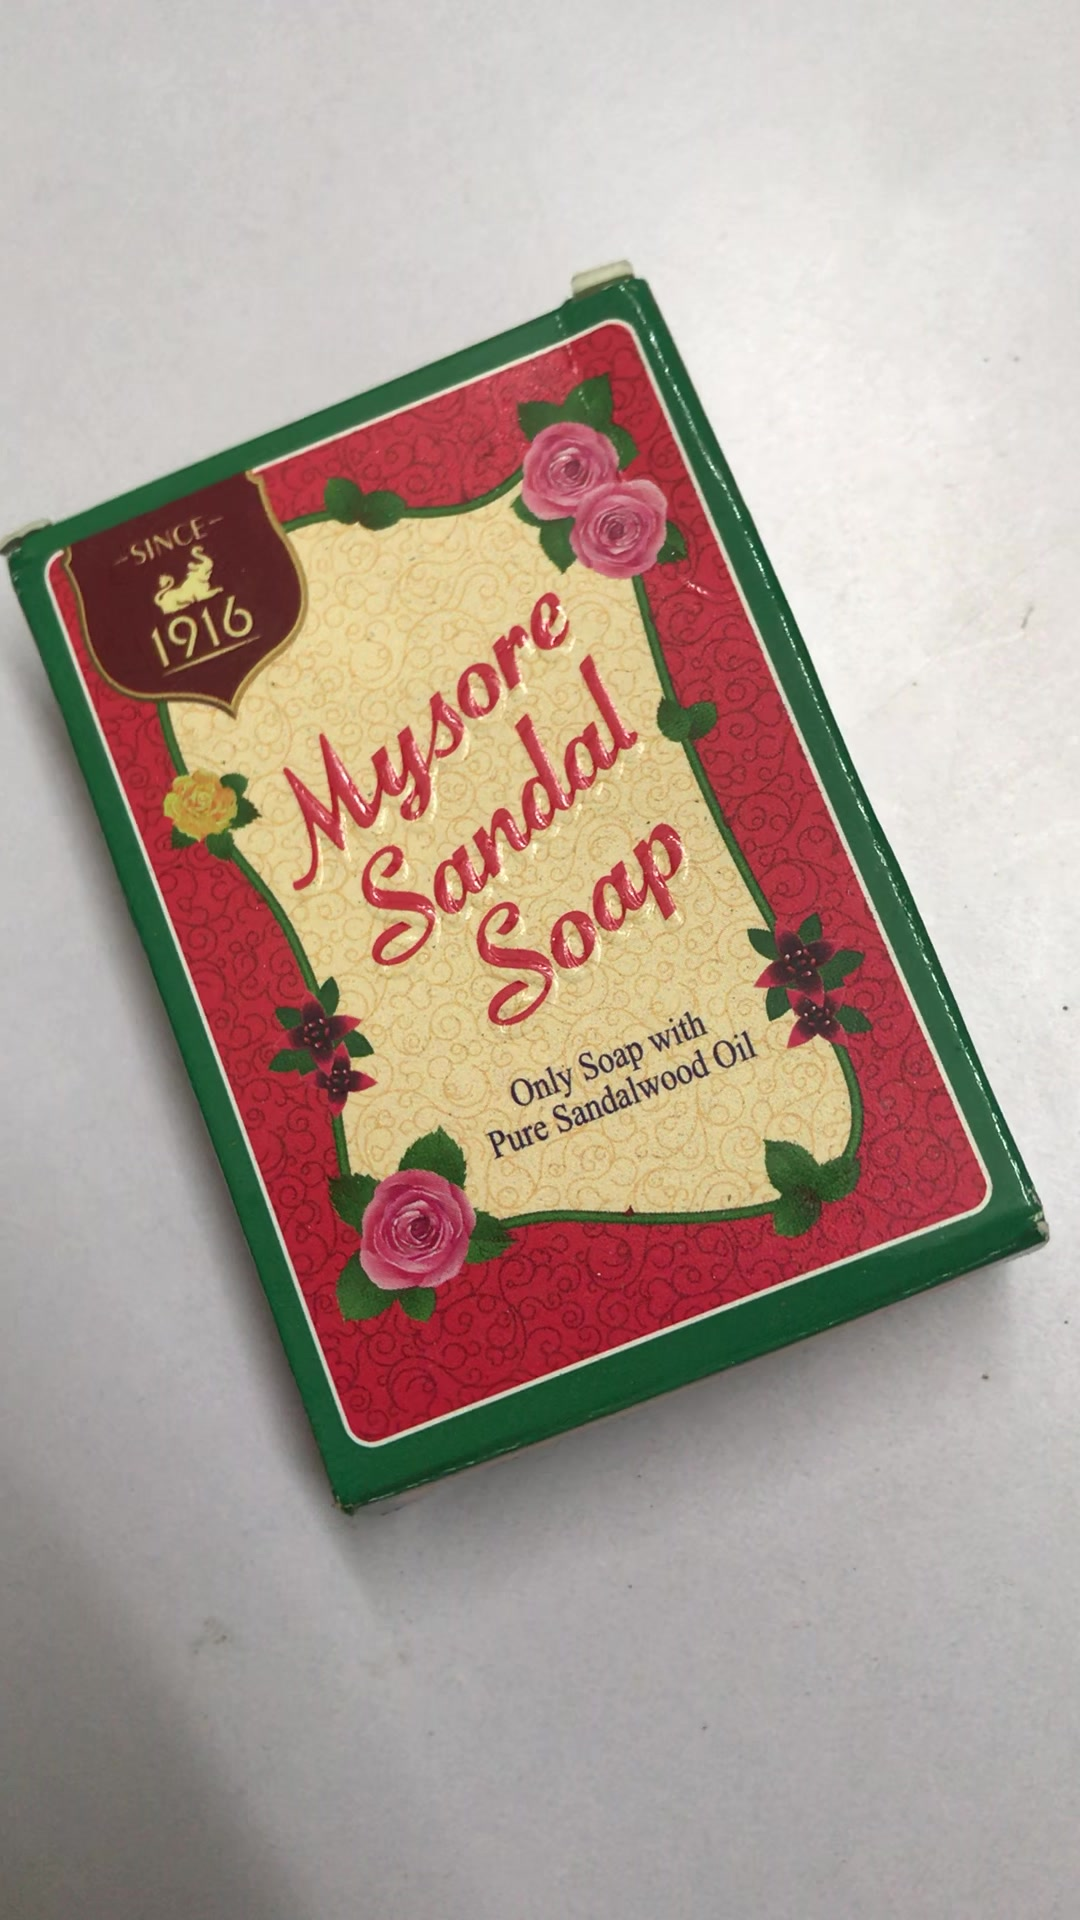mysore sandal soap: (3, 284, 1051, 1513)
